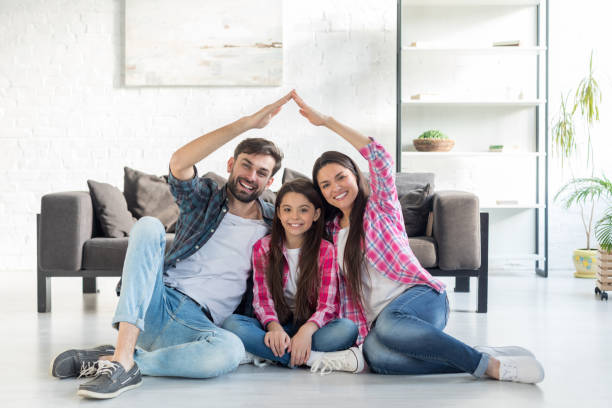without mask: (220, 146, 281, 204), (315, 153, 361, 206), (275, 193, 319, 235)
